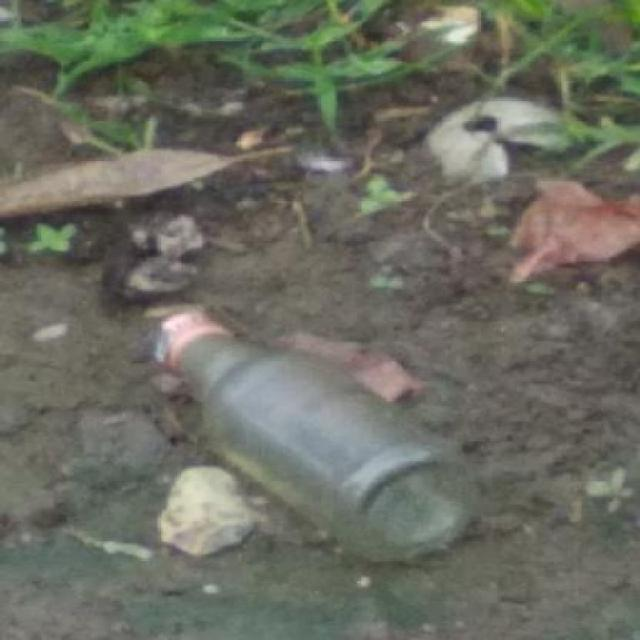garbage: (109, 263, 496, 578), (0, 143, 308, 226), (493, 161, 636, 286)
